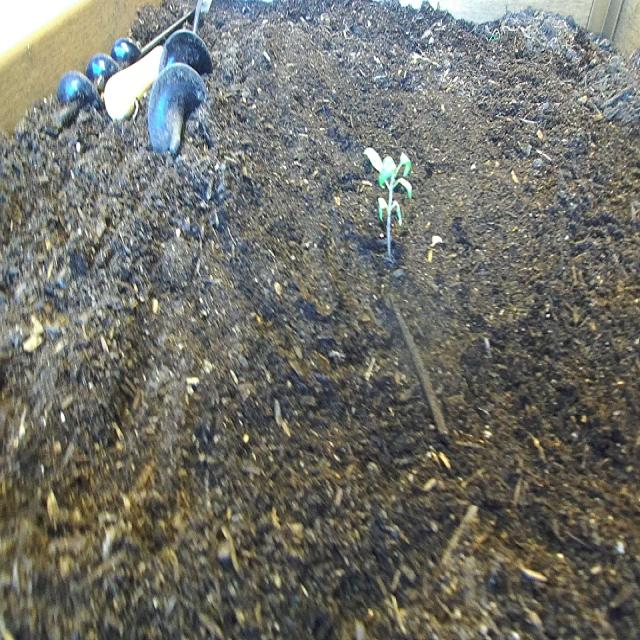Healthy: (362, 136, 415, 266)
